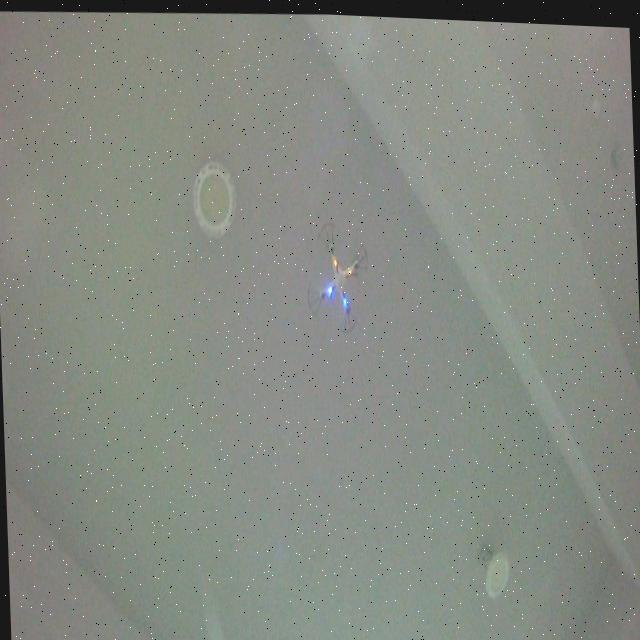drone: (302, 213, 373, 336)
